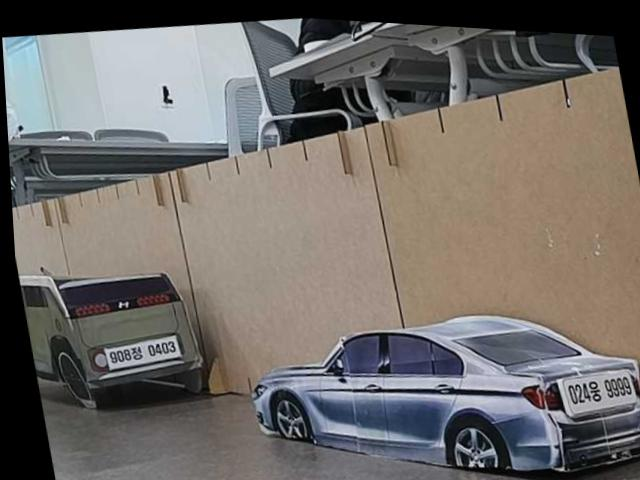car: (230, 275, 640, 480), (16, 249, 217, 420)
id: (551, 360, 640, 423), (98, 328, 187, 376)
